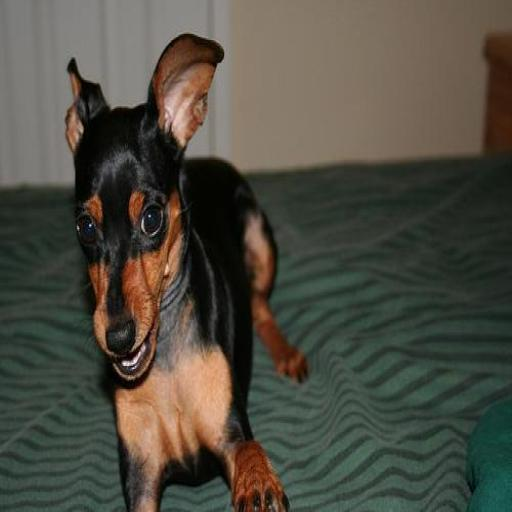dog_face: (64, 53, 215, 373)
